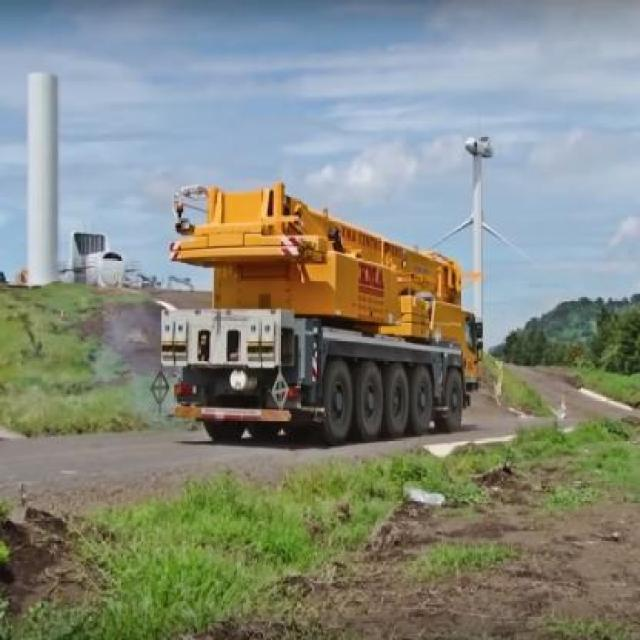Mobile Crane: (158, 183, 479, 439)
